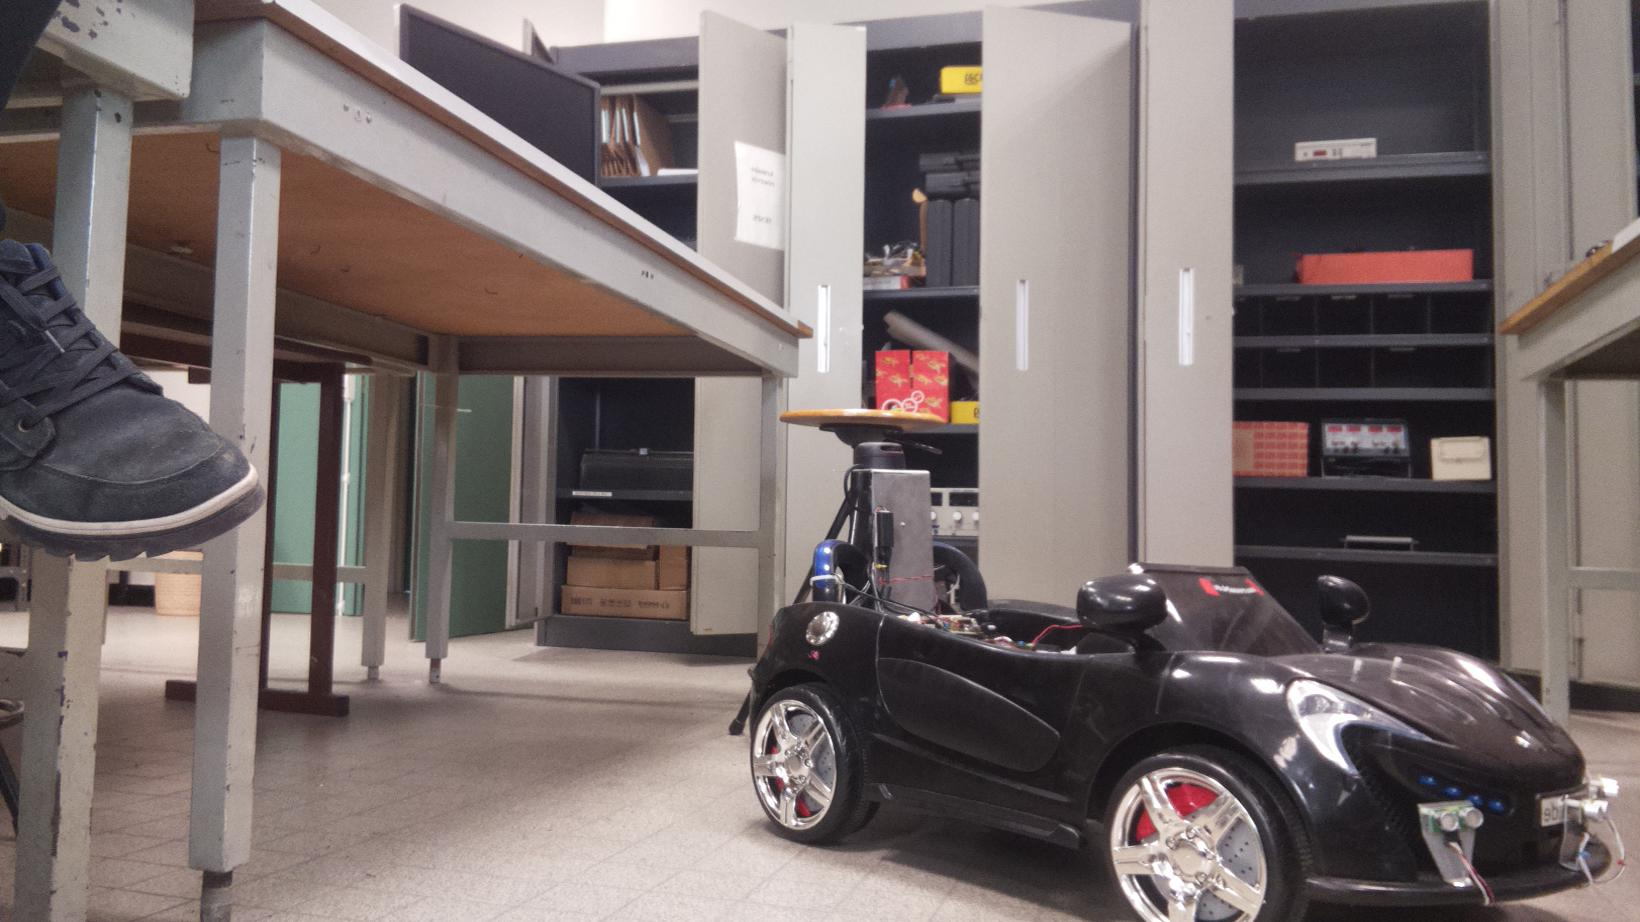big: (748, 537, 1626, 922)
